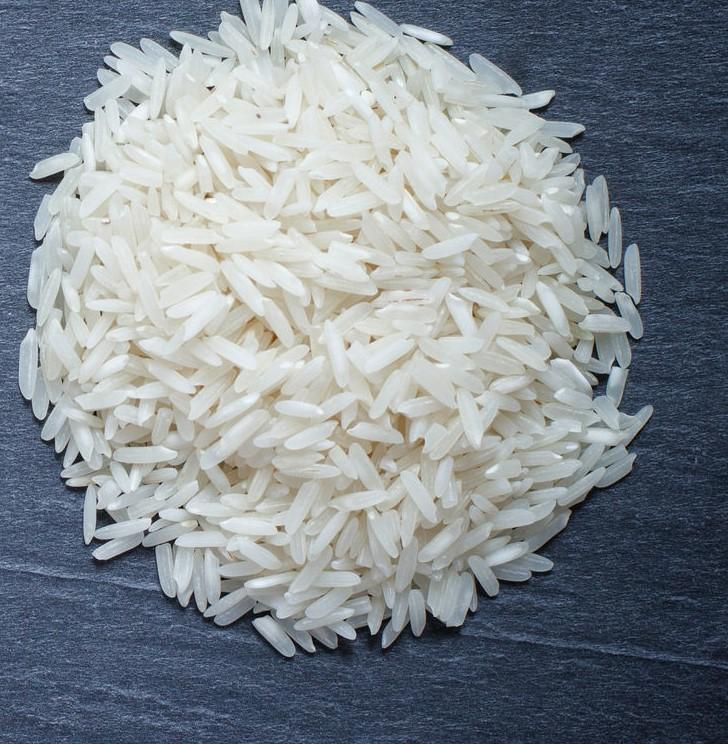WhiteRice: (16, 0, 652, 642)
